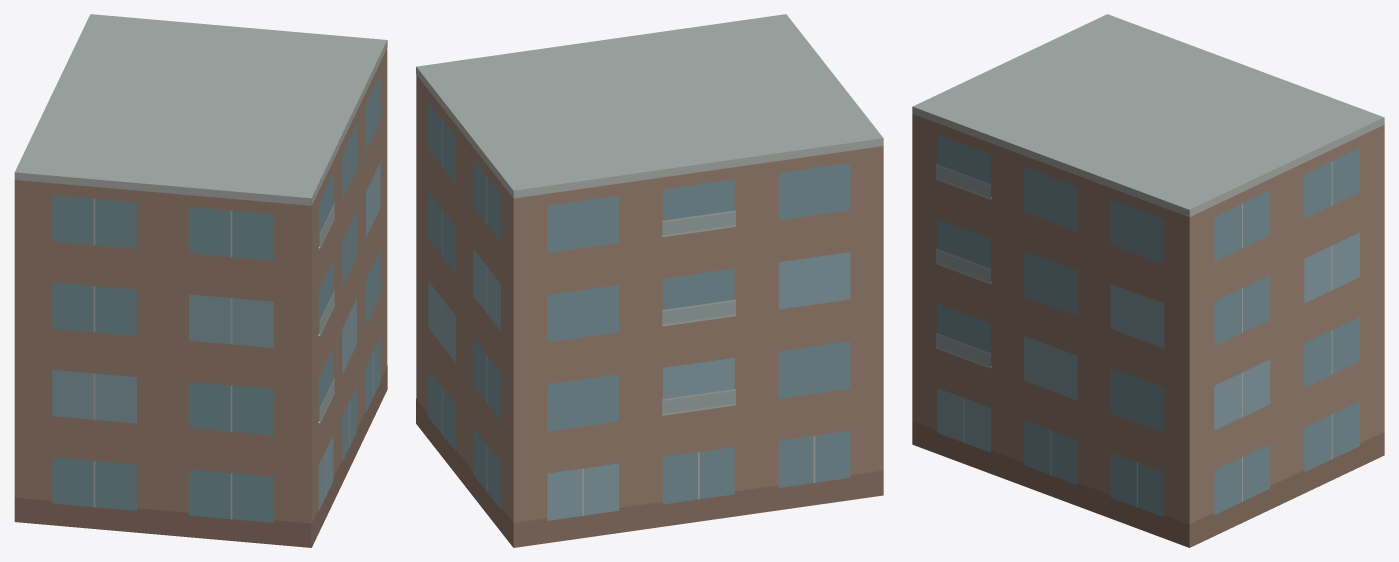
The model's file is survey-upis-32913335.glb.
3 renders of one model, left to right at view 1: azimuth 30°, elevation 25°; view 2: azimuth 150°, elevation 25°; view 3: azimuth 270°, elevation 25°, orthographic. The views are drawn at different scales.
Visible parts, largest first — view 1: survey-upis-32913335.tmp; view 2: survey-upis-32913335.tmp; view 3: survey-upis-32913335.tmp.
Part boxes in pixels (left/top/right/bottom): survey-upis-32913335.tmp: left=14, top=14, right=387, bottom=547; survey-upis-32913335.tmp: left=416, top=14, right=883, bottom=547; survey-upis-32913335.tmp: left=912, top=14, right=1384, bottom=547.
Bounding box in the file's own units: 14.06 × 11.3 × 14.31.
